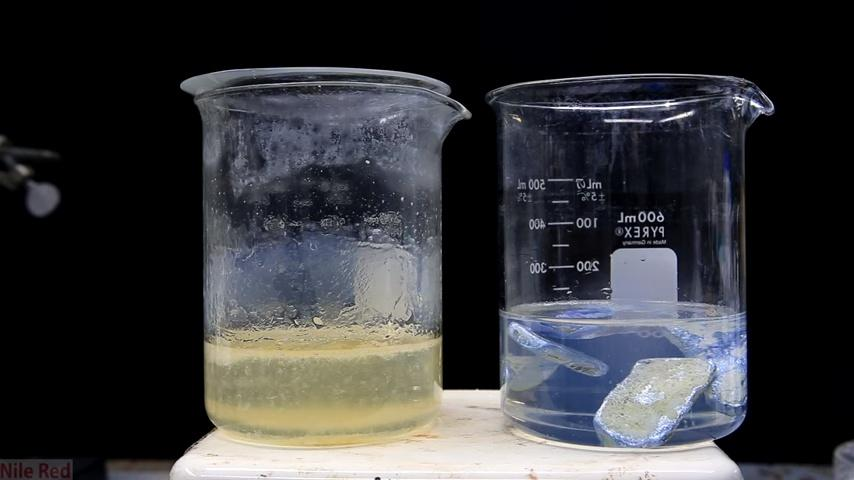Beaker: (162, 63, 469, 440), (481, 62, 774, 449)
